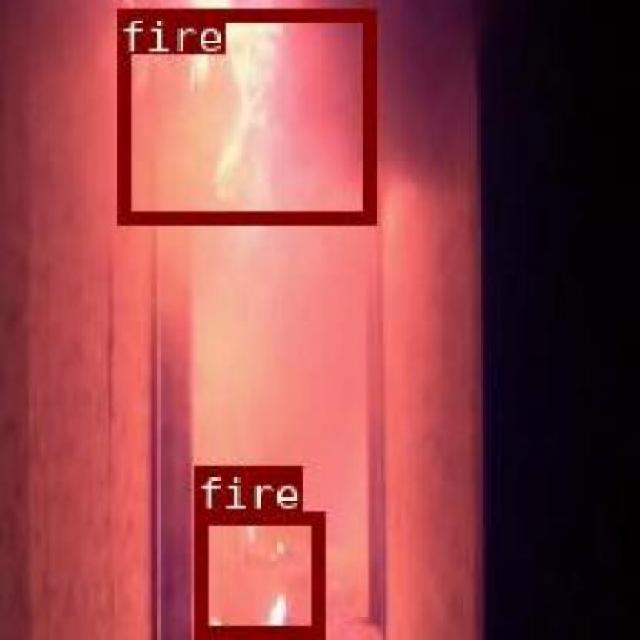Fire: (115, 6, 372, 222), (194, 511, 320, 634)
